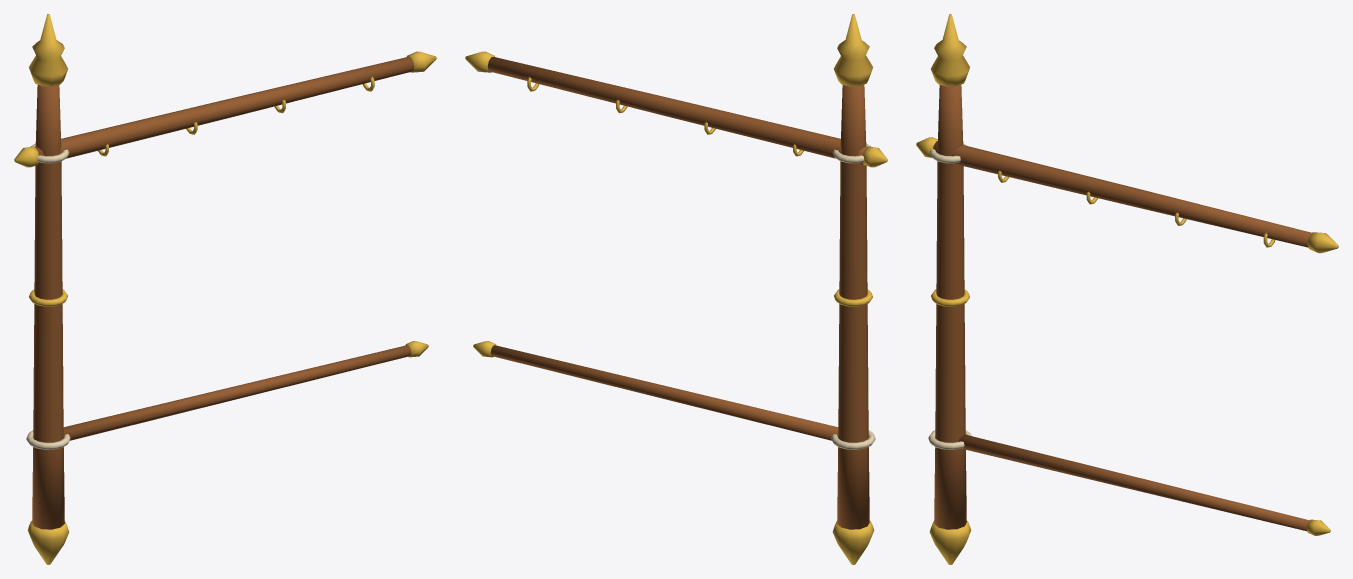
The model's file is flag_gate_mast.glb.
3 renders of one model, left to right at view 1: azimuth 30°, elevation 25°; view 2: azimuth 150°, elevation 25°; view 3: azimuth 330°, elevation 25°, orthographic.
Parts seen in each view (by area): view 1: FlagGateMast; view 2: FlagGateMast; view 3: FlagGateMast.
Boxes of the visible parts, x1,y1,x2,y2 form: FlagGateMast: (14,14,436,564); FlagGateMast: (465,14,887,564); FlagGateMast: (916,14,1338,564).
Bounding box in the file's own units: 4.28 × 5.34 × 0.3841.
